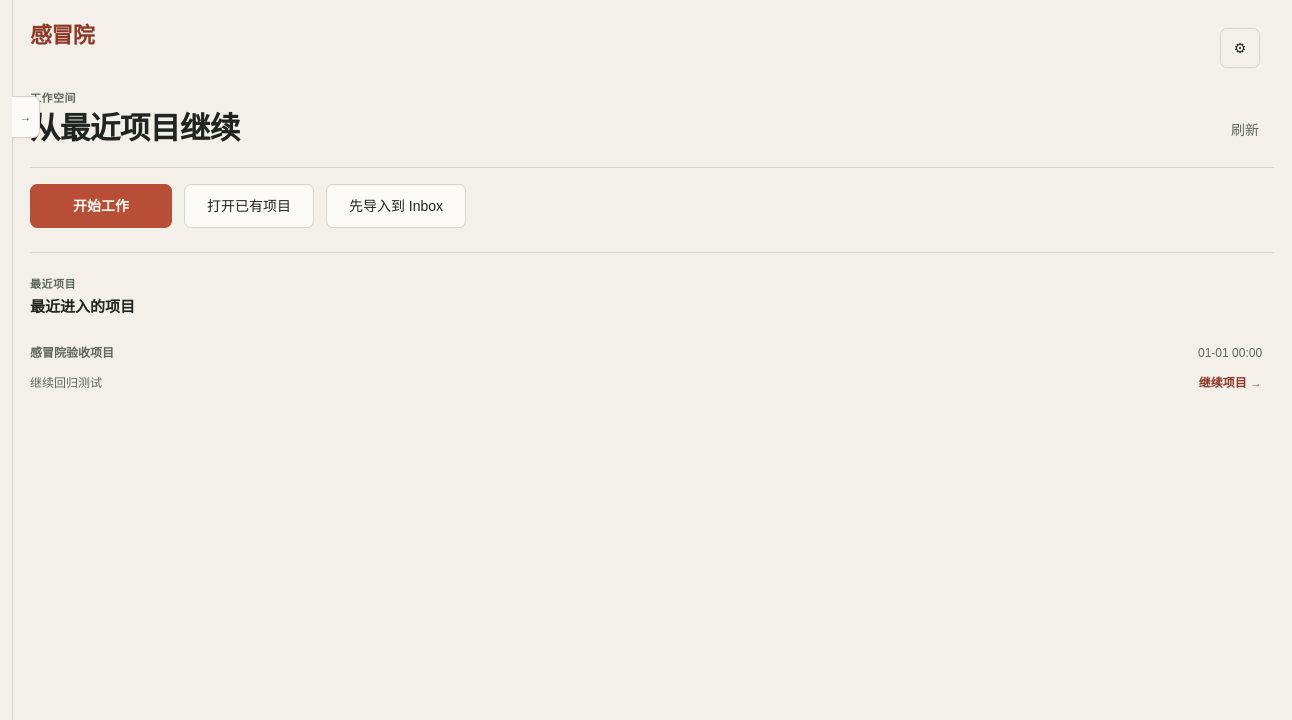
Test case: project workspace persistence flow › opens the project picker from Start Work even when a continue focus exists
The image size is (1292, 720).
Click the button "开始工作" at (101, 206), box [30,184,172,228]
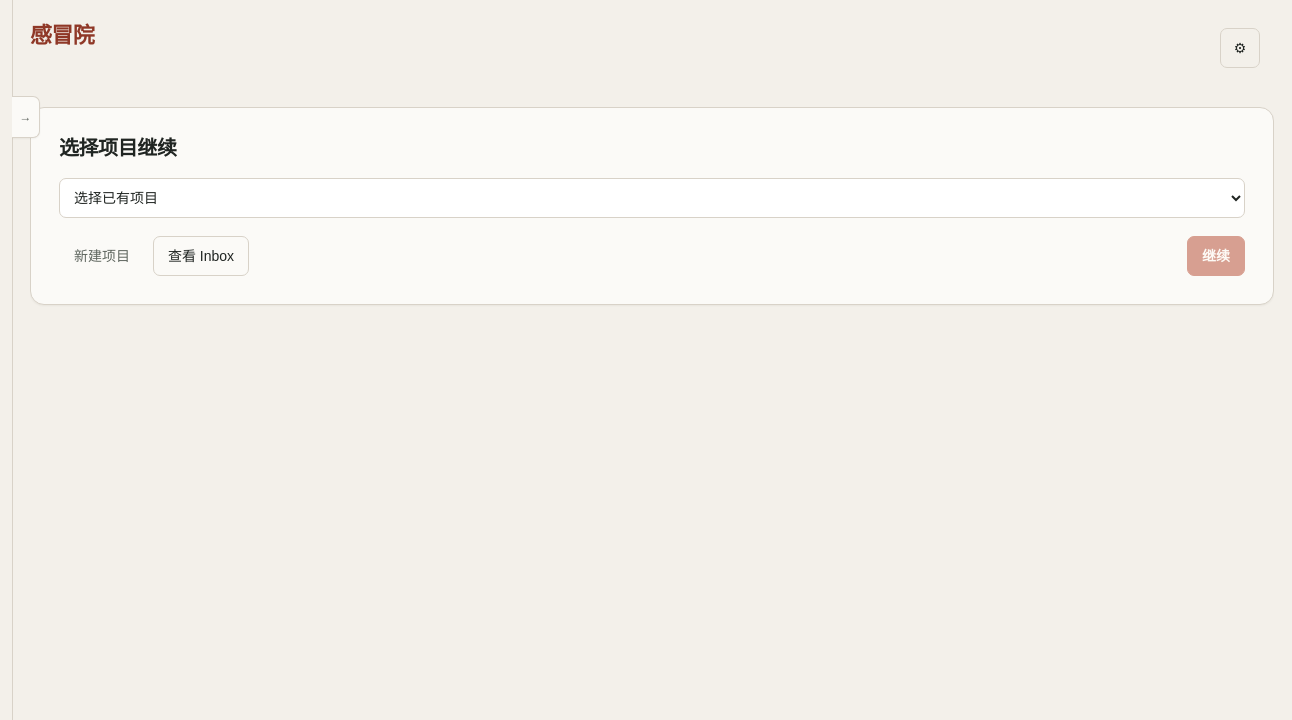
Expected: the button "继续" is disabled, [1187,236,1245,276]
Result: the heading "选择项目继续" is shown at [59,137,176,159]
Result: the dropdown is shown at [59,178,1245,218]
